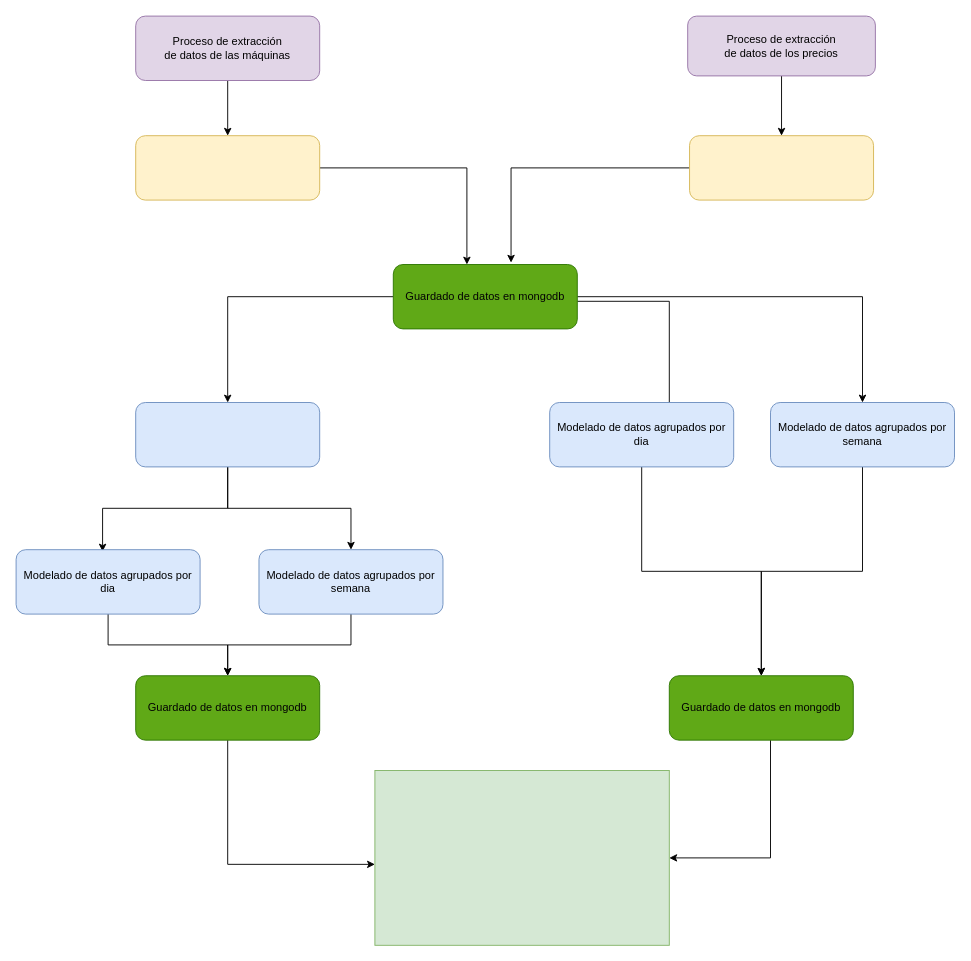
Some shapes in this 971 by 961 pixel diagram are drawn without their labels. Each missing label, with the box of its shape:
Agrupación de datos por volumen en los pedidos: (135, 402, 320, 467)
Procesamiento de los datos de los precios: (689, 135, 874, 200)
Procesamiento de los datos de materiales: (135, 135, 320, 200)
Visualización de resultados en cuadros de mandos: (374, 770, 669, 945)
